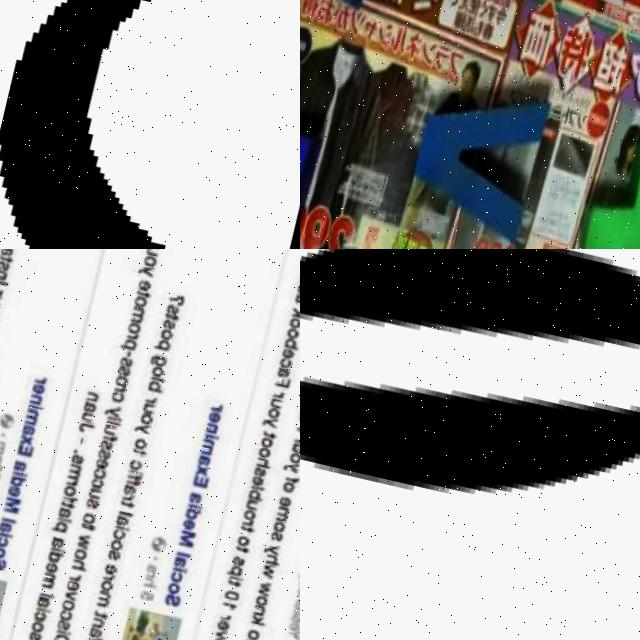0: (300, 249, 640, 559), (225, 588, 241, 602), (0, 462, 4, 473)
1: (223, 600, 238, 609)
5: (140, 588, 156, 600)
E: (0, 0, 172, 249)
F: (585, 103, 640, 249)
V: (412, 78, 551, 232)
